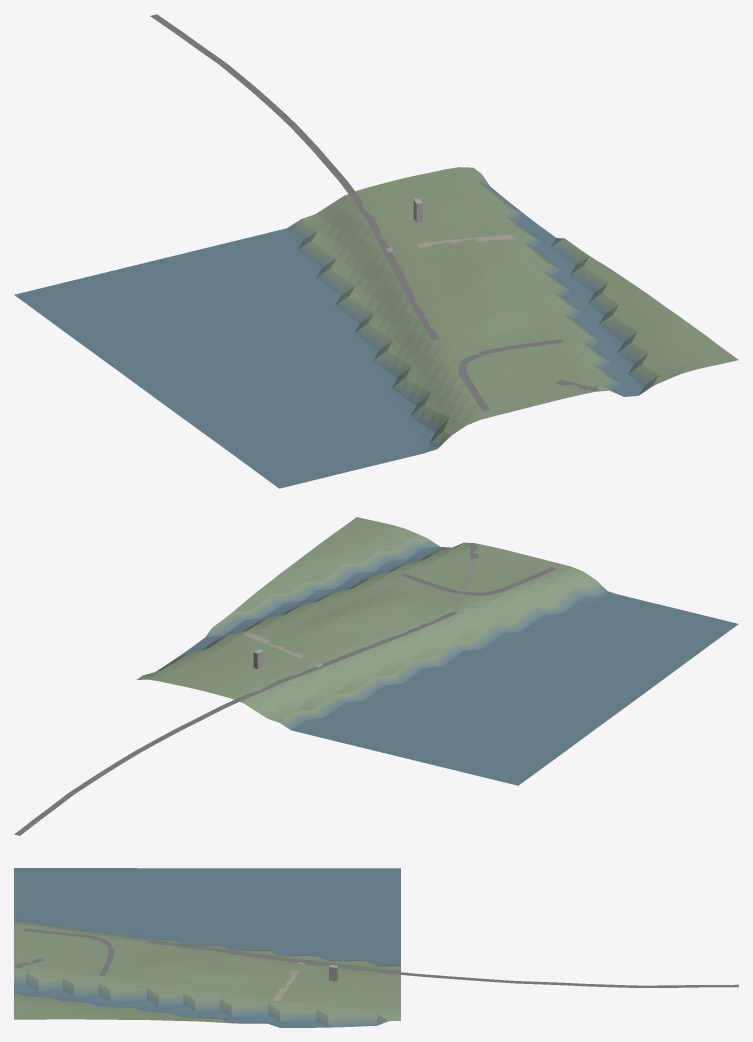
File: tile_7_-3.glb
The picture shows the model from 3 angles, top to bottom: view 1: azimuth 30°, elevation 25°; view 2: azimuth 150°, elevation 25°; view 3: azimuth 270°, elevation 25°; orthographic projection. The views are drawn at different scales.
Parts seen in each view (by area): view 1: terrain, roads; view 2: terrain, roads; view 3: terrain, roads.
Part boxes in pixels (x1,y1,x2,y2): terrain: (14,167,738,488); roads: (150,14,598,411); terrain: (136,517,738,785); roads: (14,542,556,835); terrain: (14,868,400,1027); roads: (14,928,738,1001).
Size of the model in its own units: 256 by 21.45 by 480.
